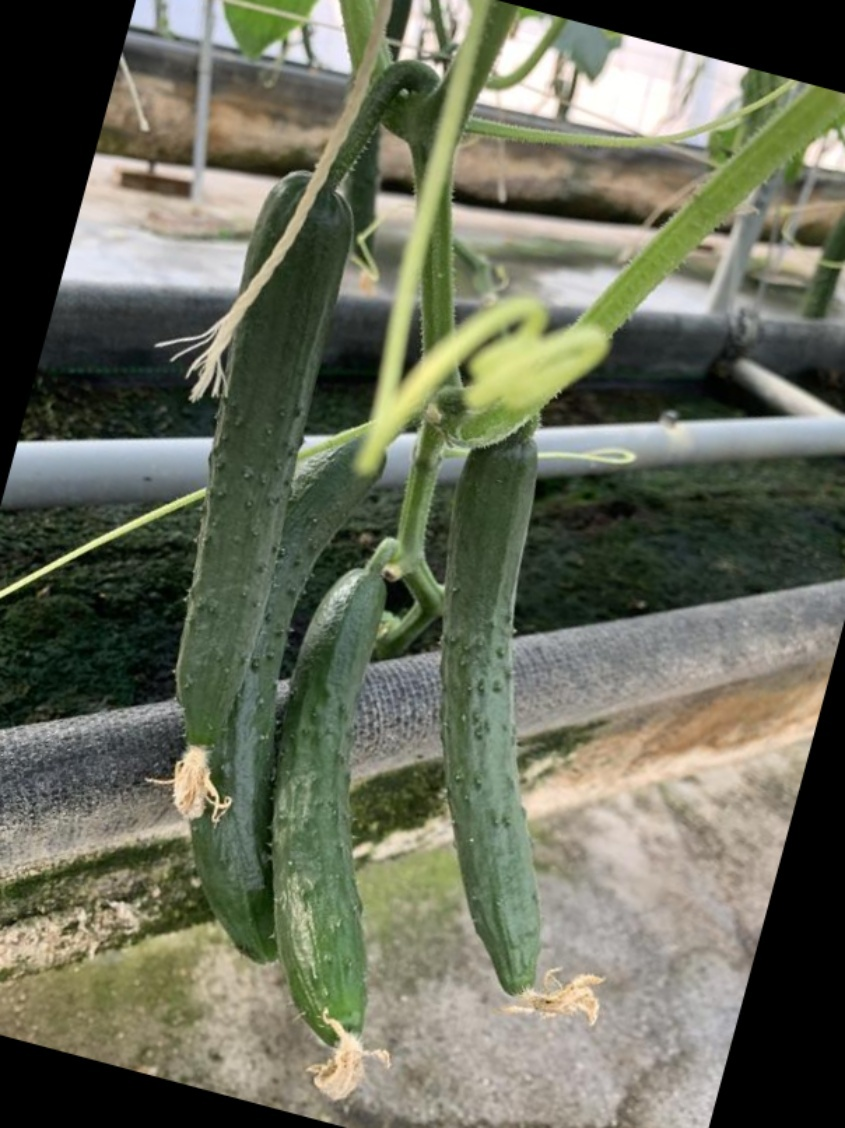mature: (432, 439, 555, 993), (259, 561, 392, 1058)
